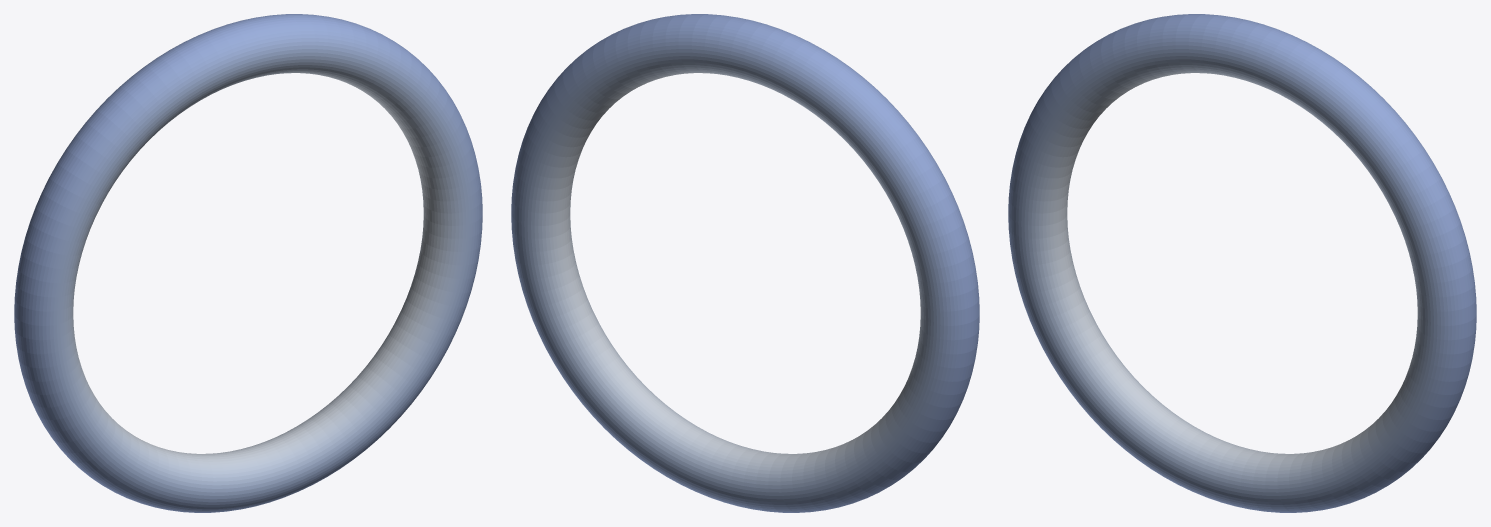
3 renders of one model, left to right at view 1: azimuth 30°, elevation 25°; view 2: azimuth 150°, elevation 25°; view 3: azimuth 330°, elevation 25°, orthographic.
Visible parts, largest first — view 1: world; view 2: world; view 3: world.
Boxes of the visible parts, x1=… form: world: x1=14, y1=14, x2=482, y2=512; world: x1=511, y1=14, x2=979, y2=512; world: x1=1008, y1=14, x2=1476, y2=512.
Size of the model in its own units: 30 by 30 by 3.33.
